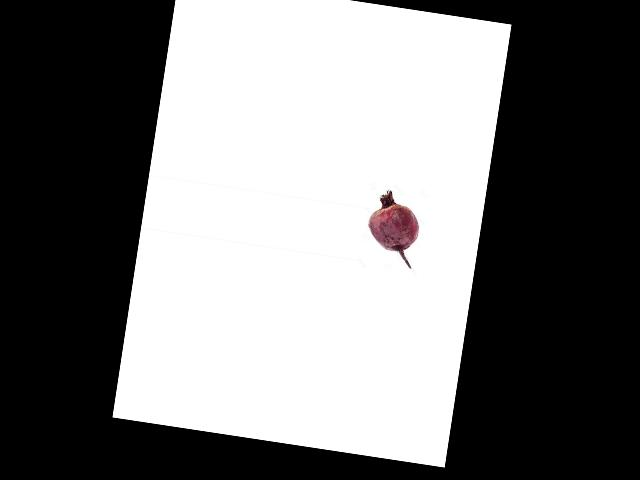beet: (363, 187, 424, 268)
